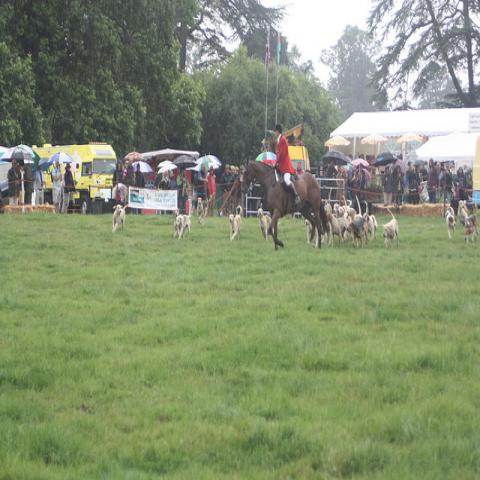truck: (31, 141, 117, 213)
